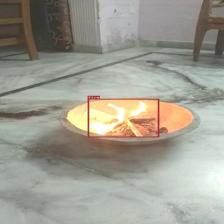fire: (87, 99, 159, 137)
